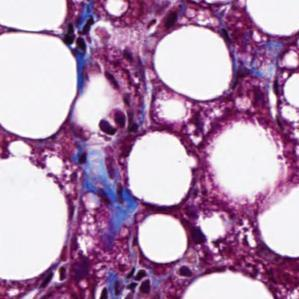inflammation: (94, 265, 154, 299), (94, 105, 130, 140), (173, 261, 199, 282)
